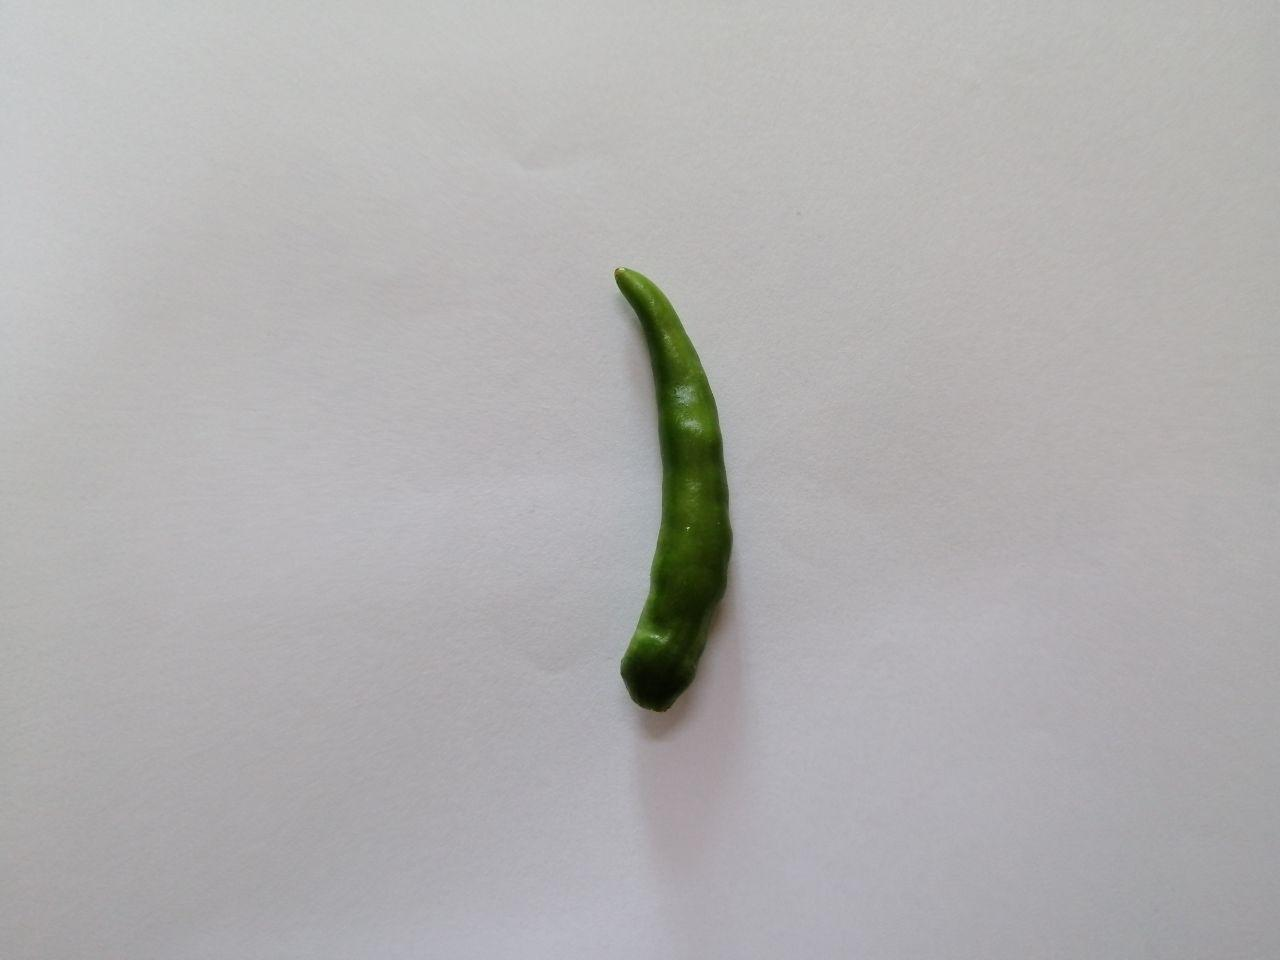lada hijau: (597, 247, 746, 730)
